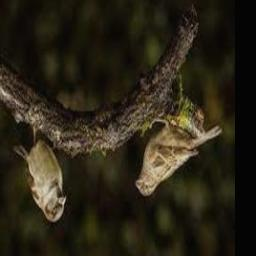Sparrow: (136, 120, 222, 199), (13, 124, 67, 223)
